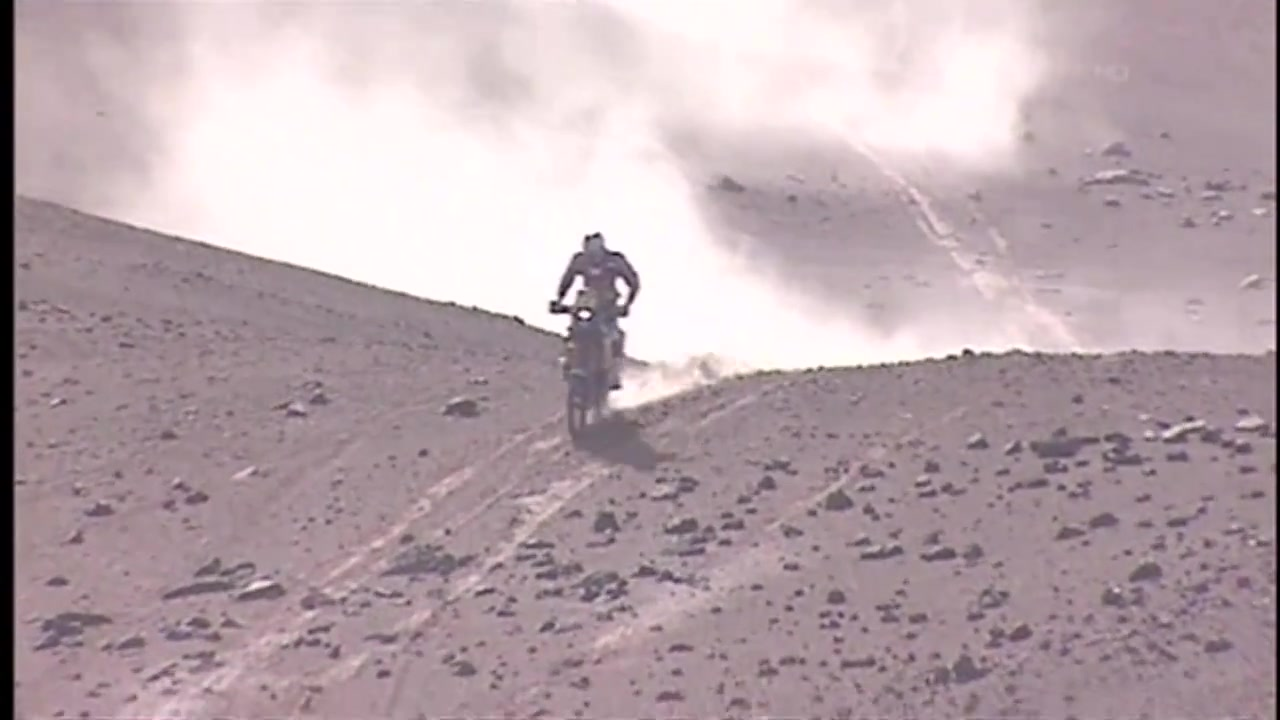motorbike: (551, 298, 632, 437)
